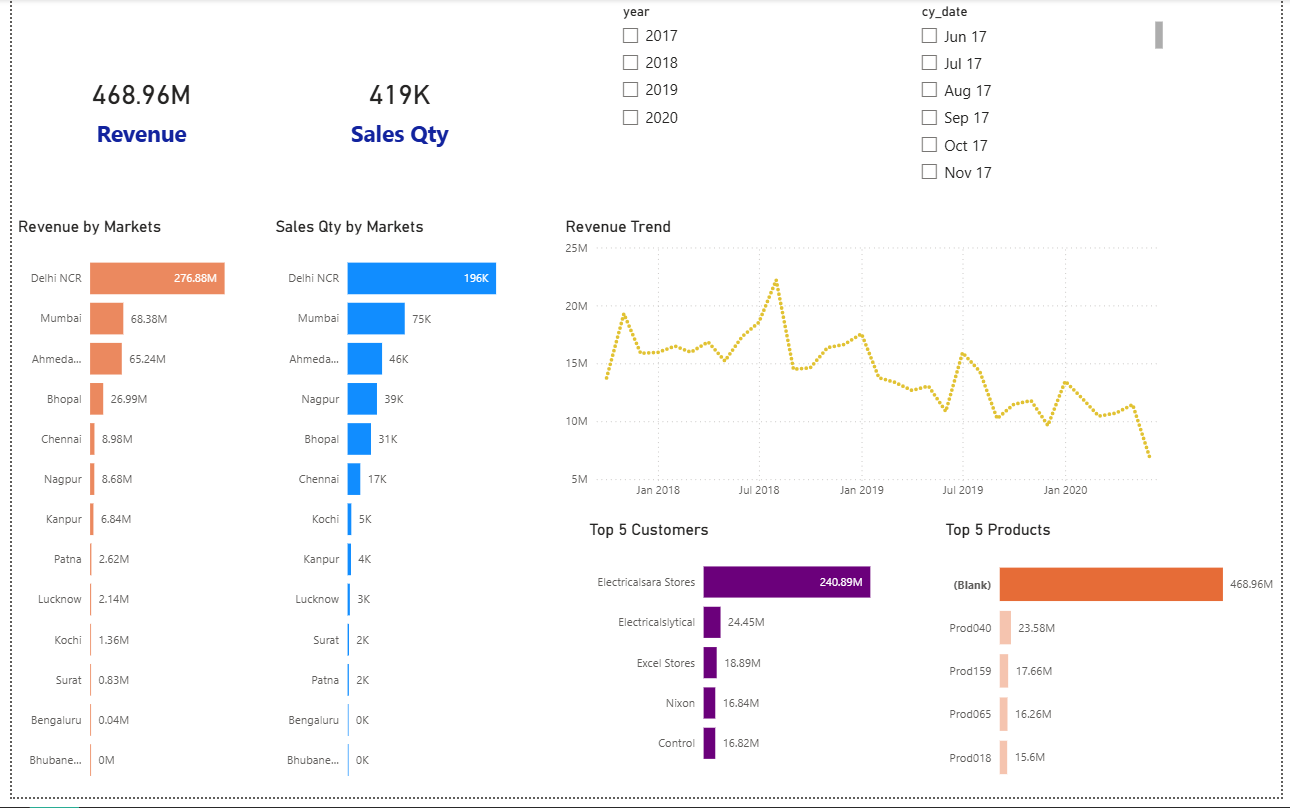

What the dashboard file says about the page in this screenshot:
{"tool":"powerbi","page":{"name":"Page 1","canvas":[1350,850],"ordinal":0},"visuals":[{"type":"card","fields":{"Values":["BaseMeasures.Revenue"]},"box":[0,0,276.1,232],"z":0},{"type":"card","fields":{"Values":["BaseMeasures.Sales Qty"]},"box":[276.1,0,274.6,232],"z":1000},{"type":"barChart","title":"Revenue by Markets","fields":{"Y":["BaseMeasures.Revenue"],"Category":["sales markets.markets_name"]},"box":[1.5,232,274.6,618.3],"z":2000},{"type":"barChart","title":"Sales Qty by Markets","fields":{"Y":["BaseMeasures.Sales Qty"],"Category":["sales markets.markets_name"]},"box":[276.1,232,274.6,618.3],"z":3000},{"type":"slicer","fields":{"Values":["sales date.year"]},"box":[637,0,274.6,232],"z":4000},{"type":"slicer","fields":{"Values":["sales date.cy_date"]},"box":[956,0,274.6,207.1],"z":5000},{"type":"barChart","title":"Top 5 Customers","fields":{"Y":["BaseMeasures.Revenue"],"Category":["sales customers.custmer_name"]},"box":[609.5,555.1,361.3,277.6],"z":6000},{"type":"barChart","title":"Top 5 Products","fields":{"Y":["BaseMeasures.Revenue"],"Category":["sales products.product_code"]},"box":[988.3,555.1,361.3,295.2],"z":7000},{"type":"lineChart","title":"Revenue Trend","fields":{"Y":["BaseMeasures.Revenue"],"Category":["sales date.cy_date"]},"box":[584.5,232,656.4,309.9],"z":8000}]}

Visuals, with their boxes in screenshot pixels (x1, y1, x2, y2), scaled from the page's 1350x850 canvas onto the 1290x808 screenshot:
card - BaseMeasures.Revenue: l=0, t=0, r=264, b=221
card - BaseMeasures.Sales Qty: l=264, t=0, r=526, b=221
"Revenue by Markets" barChart: l=1, t=221, r=264, b=807
"Sales Qty by Markets" barChart: l=264, t=221, r=526, b=807
slicer - sales date.year: l=609, t=0, r=871, b=221
slicer - sales date.cy_date: l=914, t=0, r=1176, b=197
"Top 5 Customers" barChart: l=582, t=528, r=928, b=792
"Top 5 Products" barChart: l=944, t=528, r=1289, b=807
"Revenue Trend" lineChart: l=559, t=221, r=1186, b=515
